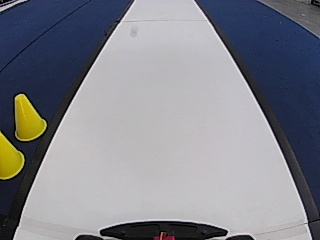cone: (13, 94, 47, 141), (0, 133, 25, 179)
